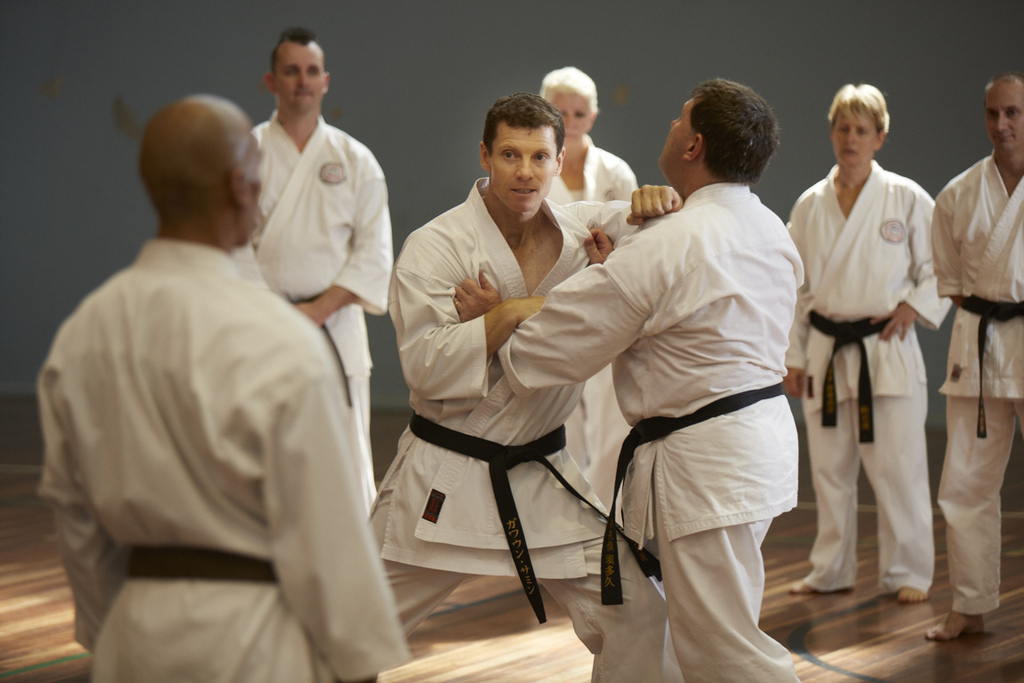Person: (35, 26, 1024, 683)
